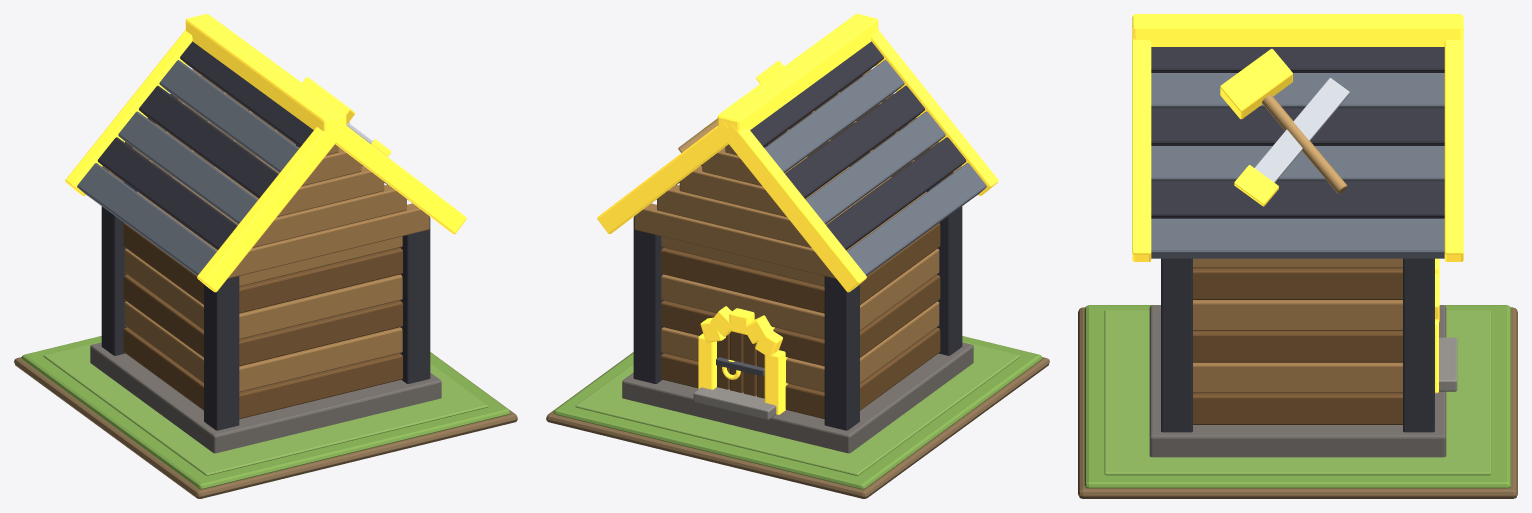
The model's file is builder_barracks_lv9.glb.
3 views of the same model, side by side, from view 1: azimuth 30°, elevation 25°; view 2: azimuth 150°, elevation 25°; view 3: azimuth 270°, elevation 25° (orthographic). The views are drawn at different scales.
Visible parts, largest first — view 1: Base_Inner, BB_Foundation, Base_Grass, WallPlank_0, WallPlank_2, WallPlank_4, WallPlank_1, WallPlank_3, RidgeBeam, Base_Dirt, BB_CornerPost_-1_-1, Bargeboard_-1_-1 (+16 smaller); view 2: Base_Inner, BB_Foundation, Base_Grass, WallPlank_4, WallPlank_3, RidgeBeam, Base_Dirt, BB_CornerPost_-1_1, Bargeboard_1_-1, RoofSlope_-1_1, RoofSlope_-1_2, RoofSlope_-1_3 (+20 smaller); view 3: Base_Inner, Base_Grass, RoofSlope_1_5, BB_Foundation, RidgeBeam, RoofSlope_1_4, RoofSlope_1_2, RoofSlope_1_3, RoofSlope_1_1, Base_Dirt, RoofSlope_1_0, WallPlank_0 (+14 smaller).
Part boxes in pixels (x1=…): Base_Inner: x1=43, y1=341, x2=488, y2=475; BB_Foundation: x1=90, y1=342, x2=441, y2=453; Base_Grass: x1=21, y1=336, x2=510, y2=489; WallPlank_0: x1=123, y1=327, x2=402, y2=418; WallPlank_2: x1=123, y1=275, x2=402, y2=366; WallPlank_4: x1=123, y1=223, x2=402, y2=313; WallPlank_1: x1=124, y1=301, x2=402, y2=392; WallPlank_3: x1=124, y1=248, x2=402, y2=339; RidgeBeam: x1=185, y1=14, x2=346, y2=131; Base_Dirt: x1=14, y1=352, x2=517, y2=498; BB_CornerPost_-1_-1: x1=204, y1=276, x2=239, y2=430; Bargeboard_-1_-1: x1=197, y1=125, x2=341, y2=292; Base_Inner: x1=575, y1=341, x2=1020, y2=475; BB_Foundation: x1=622, y1=342, x2=973, y2=453; Base_Grass: x1=553, y1=336, x2=1042, y2=489; WallPlank_4: x1=661, y1=223, x2=940, y2=313; WallPlank_3: x1=661, y1=248, x2=939, y2=339; RidgeBeam: x1=717, y1=14, x2=878, y2=131; Base_Dirt: x1=546, y1=352, x2=1049, y2=498; BB_CornerPost_-1_1: x1=824, y1=276, x2=859, y2=430; Bargeboard_1_-1: x1=722, y1=125, x2=866, y2=292; RoofSlope_-1_1: x1=764, y1=60, x2=904, y2=172; RoofSlope_-1_2: x1=785, y1=85, x2=924, y2=198; RoofSlope_-1_3: x1=806, y1=111, x2=945, y2=224; Base_Inner: x1=1104, y1=310, x2=1491, y2=475; Base_Grass: x1=1084, y1=305, x2=1511, y2=488; RoofSlope_1_5: x1=1151, y1=218, x2=1444, y2=258; BB_Foundation: x1=1149, y1=305, x2=1446, y2=457; RidgeBeam: x1=1132, y1=14, x2=1463, y2=46; RoofSlope_1_4: x1=1151, y1=182, x2=1444, y2=218; RoofSlope_1_2: x1=1151, y1=109, x2=1444, y2=145; RoofSlope_1_3: x1=1151, y1=146, x2=1444, y2=182; RoofSlope_1_1: x1=1151, y1=73, x2=1444, y2=109; Base_Dirt: x1=1078, y1=307, x2=1517, y2=498; RoofSlope_1_0: x1=1151, y1=47, x2=1444, y2=72; WallPlank_0: x1=1193, y1=393, x2=1402, y2=424.
Size of the model in its own units: 2.76 by 2.69 by 2.76.
